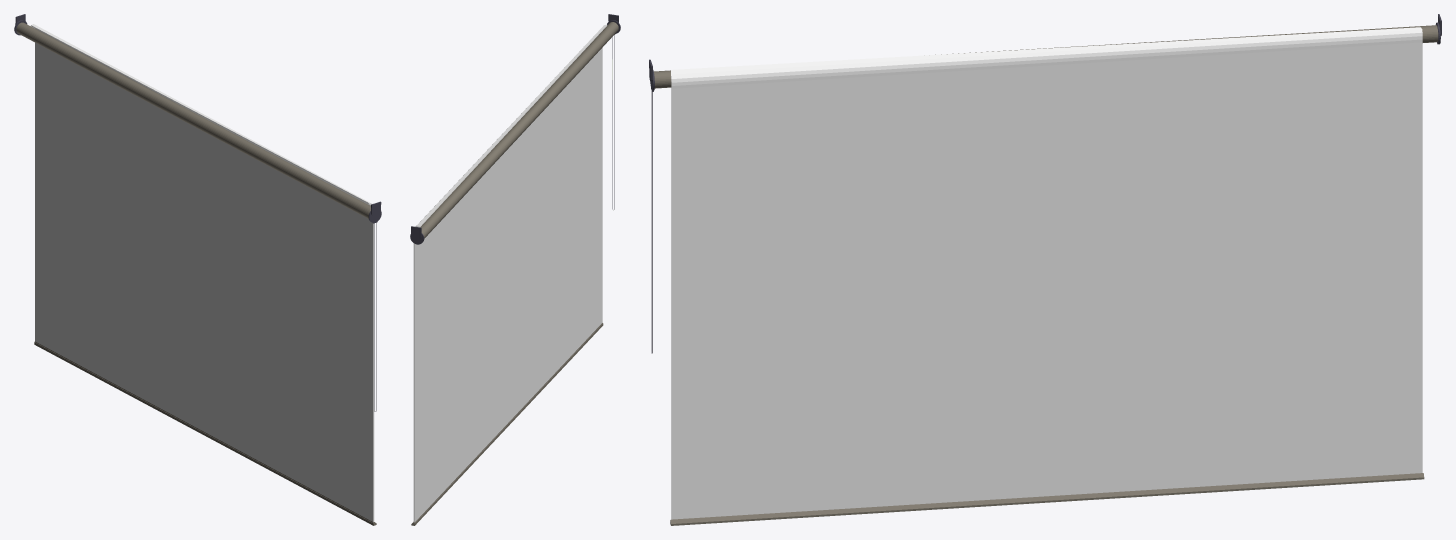
Rendered from Cortinas_AriF_46956332.fbx.
The picture shows the model from 3 angles, left to right: view 1: azimuth 30°, elevation 25°; view 2: azimuth 150°, elevation 25°; view 3: azimuth 270°, elevation 25°; orthographic projection. The views are drawn at different scales.
Visible parts, largest first — view 1: Cortina, Eje; view 2: Cortina, Eje; view 3: Cortina, Eje.
Part boxes in pixels (bbox=[...]): Cortina: bbox=[31, 24, 376, 525]; Eje: bbox=[14, 14, 381, 411]; Cortina: bbox=[411, 24, 607, 525]; Eje: bbox=[410, 14, 620, 244]; Cortina: bbox=[670, 27, 1424, 525]; Eje: bbox=[649, 14, 1441, 353].
Bounding box in the file's own units: 42.32 × 153 × 240.
Materials: 1 (1 with a texture image).
